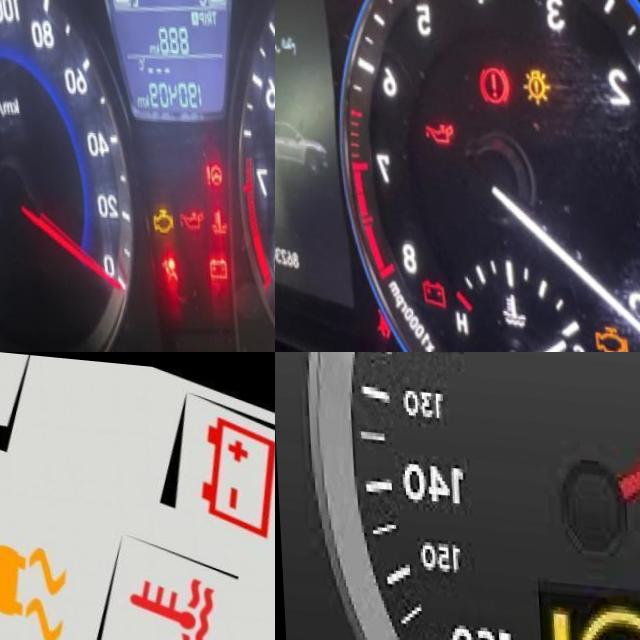Electronic Power Steering: (542, 593, 640, 640)
High Engine Coolant Temperature: (205, 198, 226, 232)
